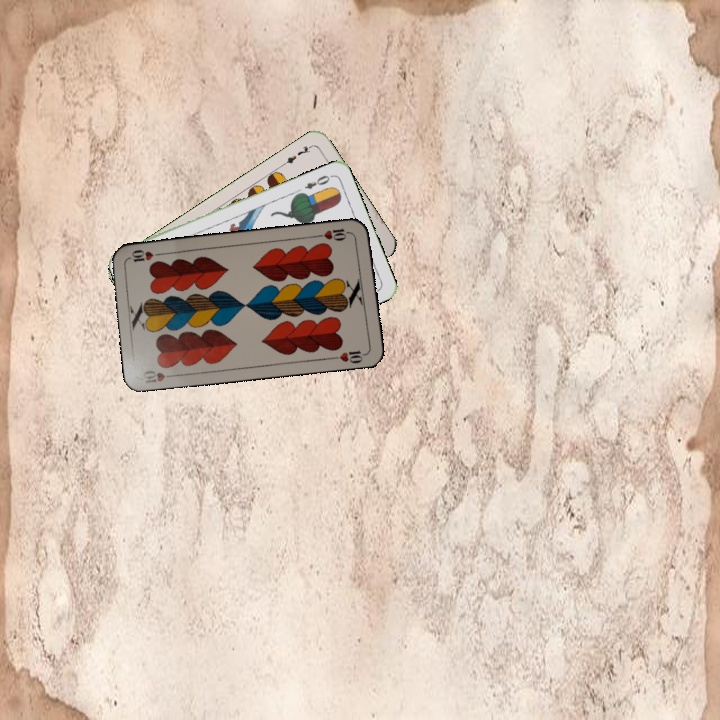E7: (278, 141, 315, 168)
EO: (301, 171, 335, 192)
H10: (139, 366, 180, 386), (313, 225, 354, 244)
